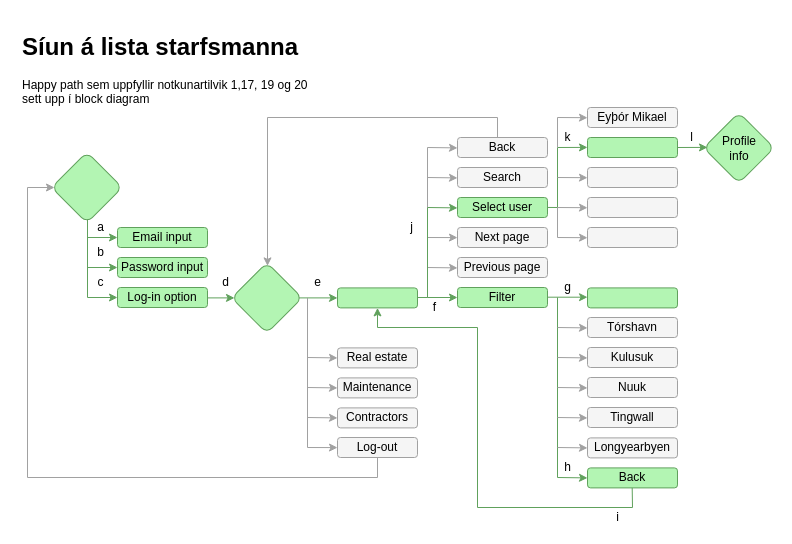
This 792x544 diagram has some shape labels left out. Here are the shapes that lost their labels. From the top down, the centre of each, then its label:
At (632,147): "Ísak Maron".
At (86,187): "Login Screen".
At (632,177): "Jón Evert".
At (632,207): "Stefán Jóhann".
At (632,237): "Unnar Freyr".
At (266,297): "Main menu".
At (377,297): "Employees".
At (632,297): "Reykjavík".
